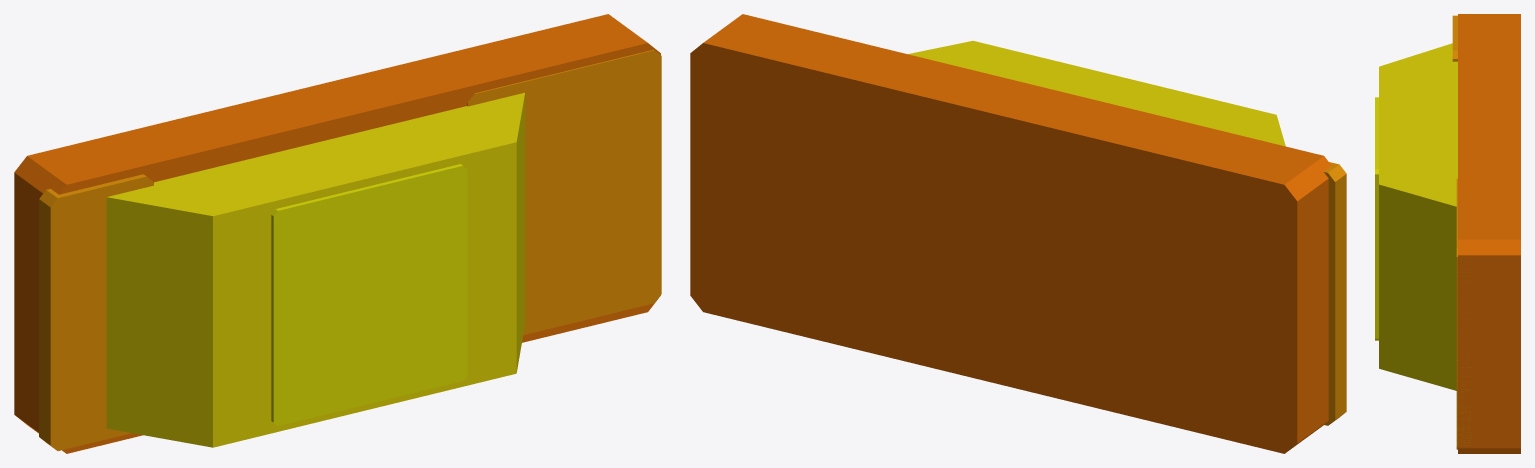
File: SM_TransitSystemV1_CarSedan_Paint.obj
3 renders of one model, left to right at view 1: azimuth 30°, elevation 25°; view 2: azimuth 150°, elevation 25°; view 3: azimuth 270°, elevation 25°, orthographic. The views are drawn at different scales.
Visible parts, largest first — view 1: Cabin, RoofPanel, LowerBody, Hood, Boot; view 2: LowerBody, Cabin, Boot; view 3: LowerBody, Cabin, RoofPanel, Hood, Boot.
Boxes of the visible parts, x1,y1,x2,y2 form: Cabin: [106, 92, 524, 447]; RoofPanel: [271, 164, 467, 425]; LowerBody: [14, 14, 660, 453]; Hood: [467, 49, 661, 335]; Boot: [39, 174, 153, 450]; LowerBody: [690, 14, 1331, 453]; Cabin: [908, 41, 1285, 146]; Boot: [1324, 162, 1346, 425]; LowerBody: [1458, 14, 1520, 453]; Cabin: [1379, 43, 1457, 390]; RoofPanel: [1375, 97, 1378, 340]; Hood: [1456, 178, 1471, 449]; Boot: [1452, 15, 1457, 61].
Bounding box in the file's own units: 429 × 180 × 111.
